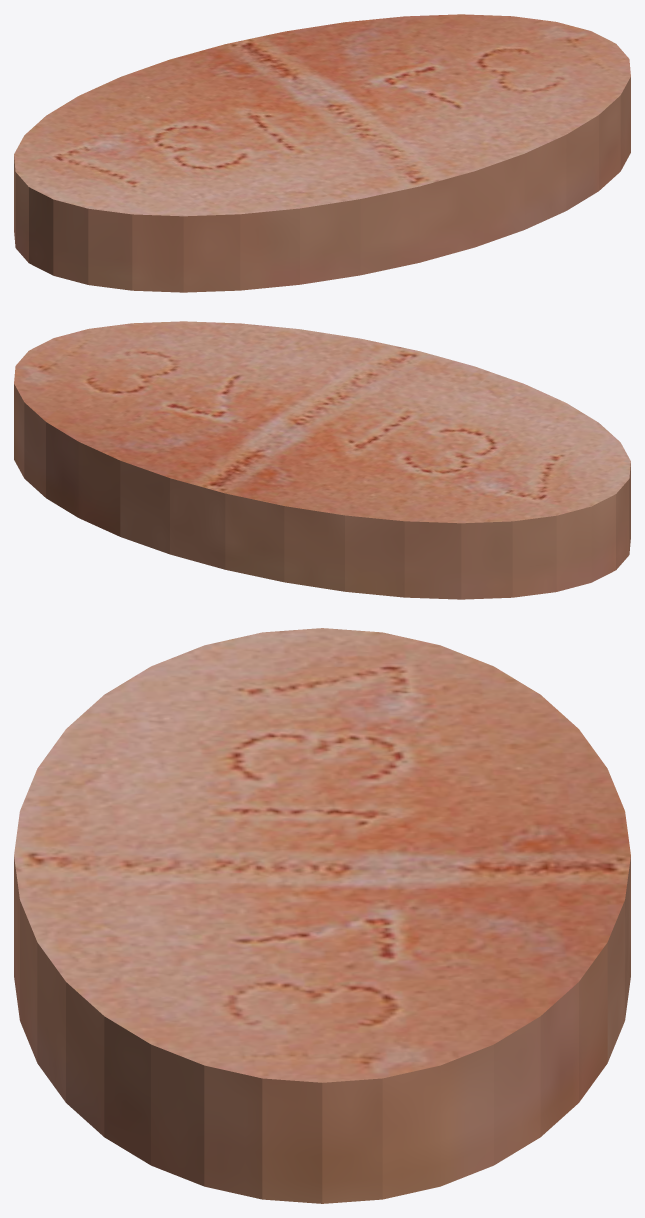
3 views of the same model, one above another, from view 1: azimuth 30°, elevation 25°; view 2: azimuth 150°, elevation 25°; view 3: azimuth 270°, elevation 25° (orthographic). The views are drawn at different scales.
Parts seen in each view (by area): view 1: 圓柱體; view 2: 圓柱體; view 3: 圓柱體.
Part boxes in pixels (box(x1,y1,x2,y2)): 圓柱體: box(14, 14, 630, 292); 圓柱體: box(14, 321, 630, 599); 圓柱體: box(14, 628, 630, 1203).
Bounding box in the file's own units: 3.16 × 0.3929 × 1.81.
